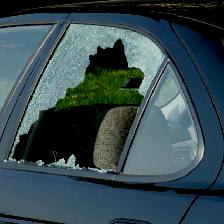glass_shatter: (8, 26, 171, 178)
